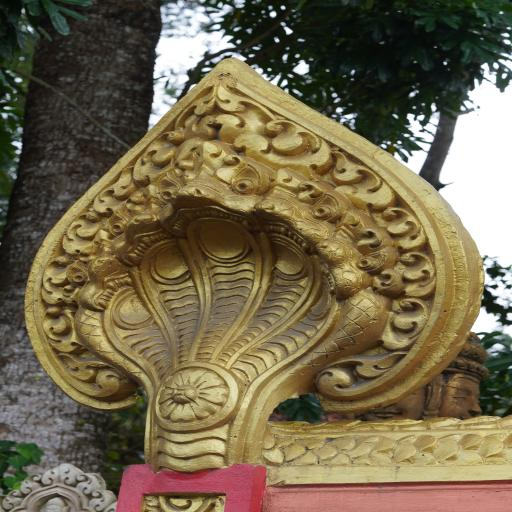la: (43, 458, 79, 486), (74, 470, 106, 496), (90, 488, 120, 512), (16, 471, 44, 495), (1, 489, 23, 510)
ran: (21, 51, 484, 498)
than: (37, 496, 76, 512)
